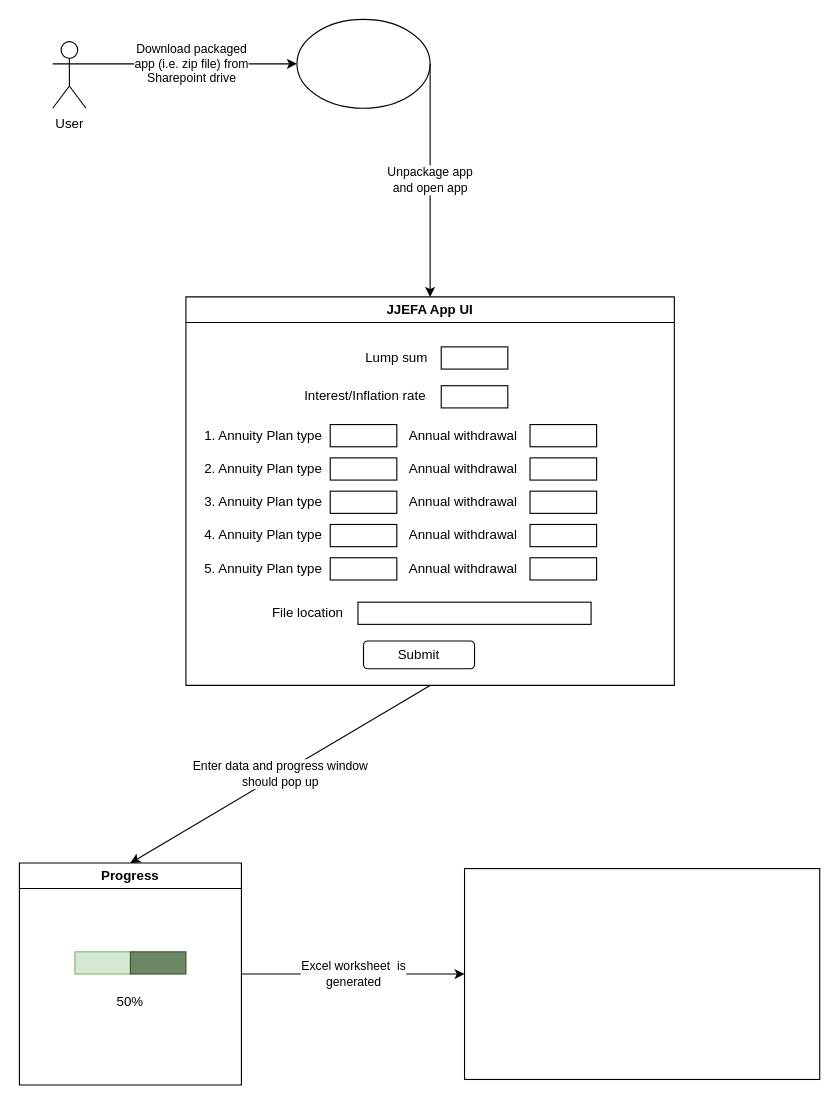
Some shapes in this 839 by 1104 pixel diagram are drawn without their labels. The centre of each missing label's shape, as x and y in pixels:
"Excel worksheet filled with annuity plans data" belongs at [641,973].
"Packaged app" belongs at [363,63].
